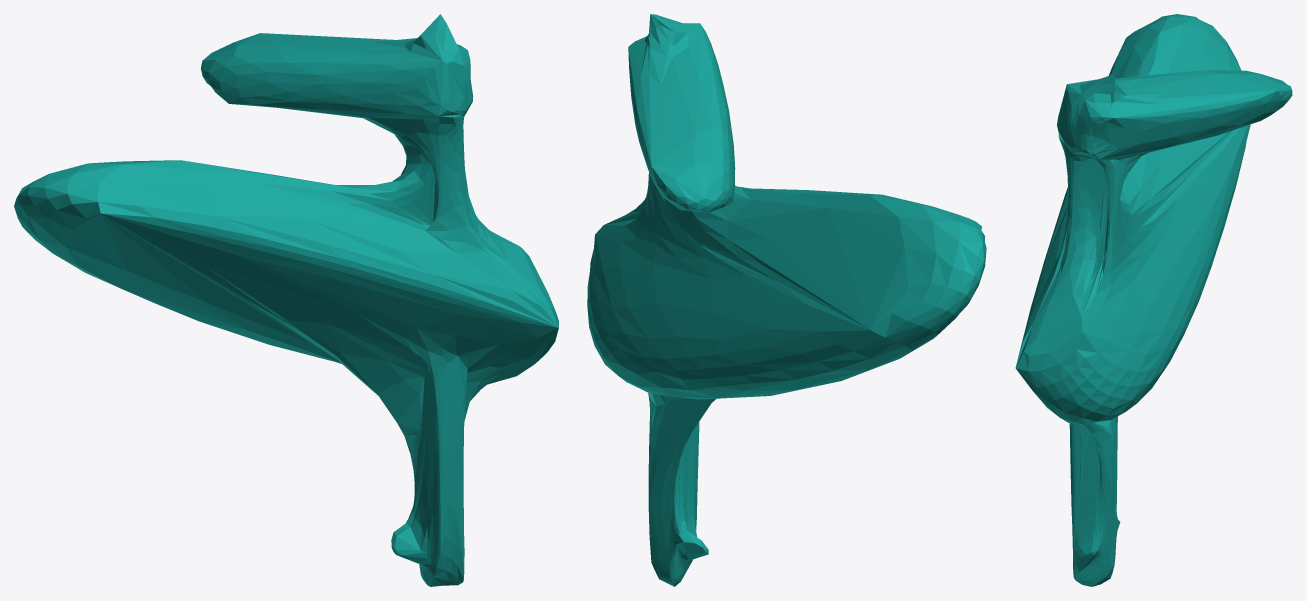
3 renders of one model, left to right at view 1: azimuth 30°, elevation 25°; view 2: azimuth 150°, elevation 25°; view 3: azimuth 270°, elevation 25°, orthographic. The views are drawn at different scales.
Visible parts, largest first — view 1: 372_Cube.1517; view 2: 372_Cube.1517; view 3: 372_Cube.1517.
Boxes of the visible parts, bbox=[...] form: 372_Cube.1517: bbox=[14, 14, 558, 586]; 372_Cube.1517: bbox=[587, 14, 986, 586]; 372_Cube.1517: bbox=[1015, 14, 1292, 586].
Size of the model in its own units: 10.17 by 12.08 by 5.89.
